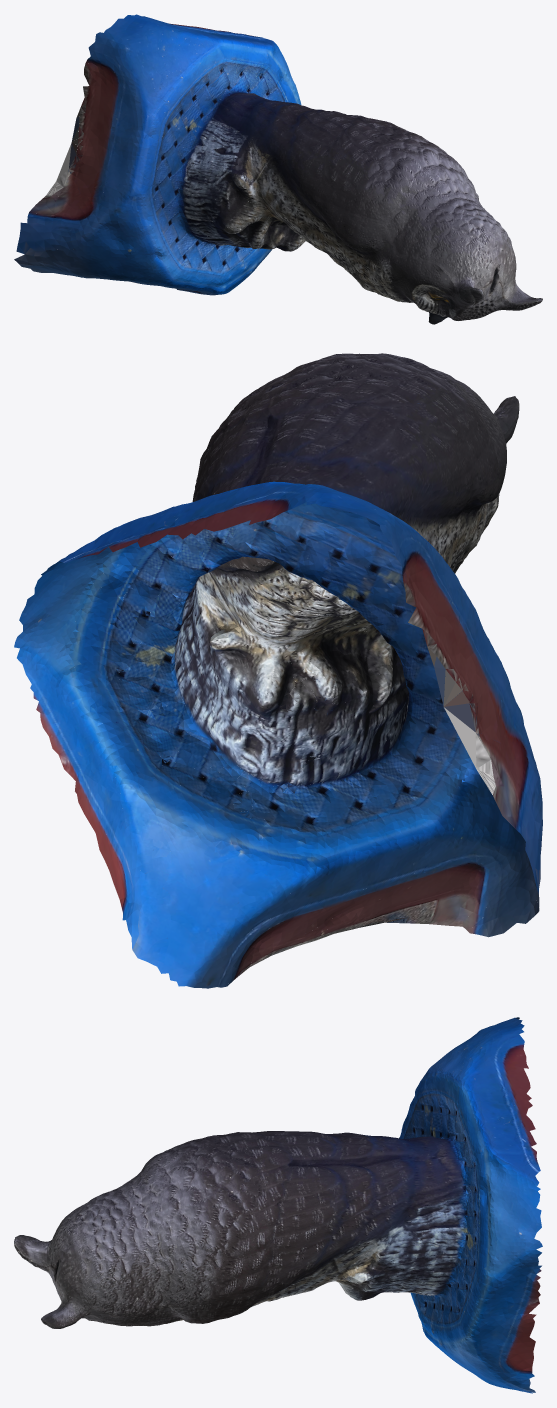
Rendered from buho1.obj.
3 views of the same model, one above another, from view 1: azimuth 30°, elevation 25°; view 2: azimuth 150°, elevation 25°; view 3: azimuth 270°, elevation 25° (orthographic). The views are drawn at different scales.
Visible parts, largest first — view 1: Group_Global; view 2: Group_Global; view 3: Group_Global.
Part boxes in pixels (left/top/right/bottom): Group_Global: left=14, top=14, right=542, bottom=324; Group_Global: left=14, top=353, right=542, bottom=988; Group_Global: left=14, top=1017, right=542, bottom=1393.
Bounding box in the file's own units: 2.21 × 1.93 × 2.85.
Materials: 1 (1 with a texture image).
